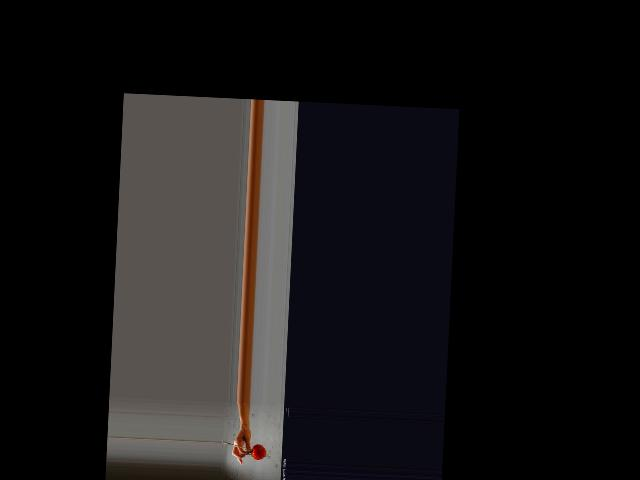tomato: (251, 443, 267, 459)
